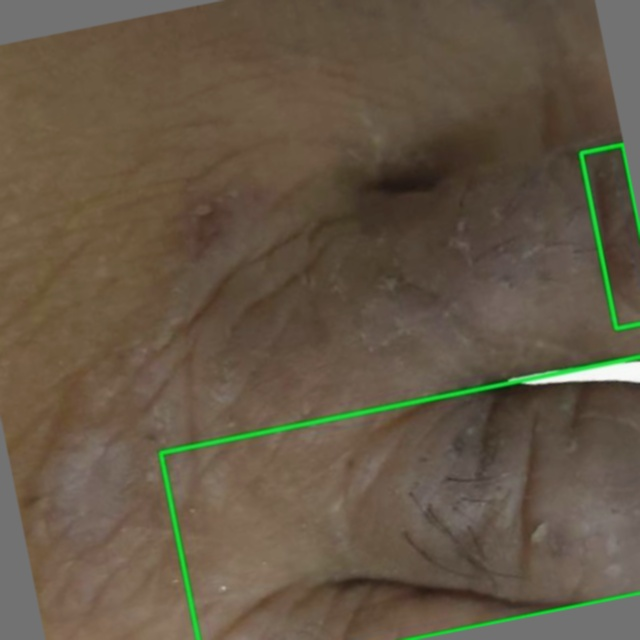Eczema: (161, 357, 639, 639), (581, 144, 639, 328)
